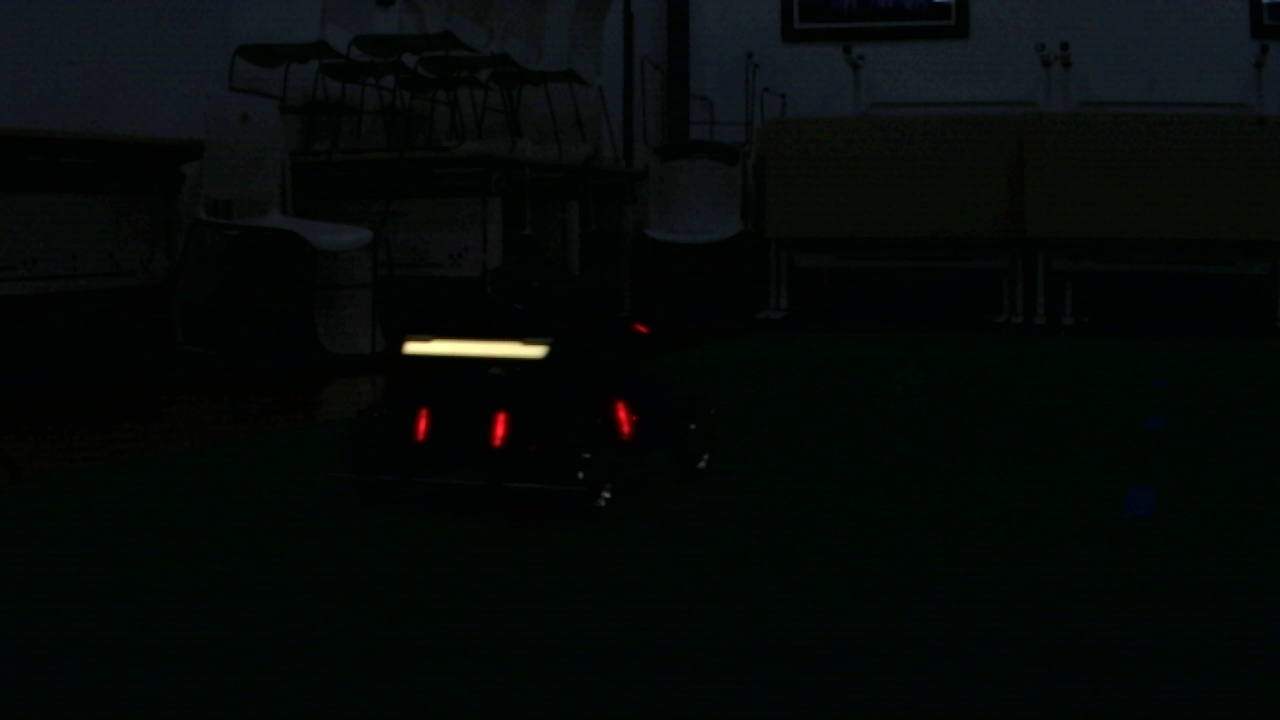lamp: (615, 395, 633, 440), (414, 400, 431, 443), (493, 407, 507, 449)
pair1: (415, 405, 504, 444)
